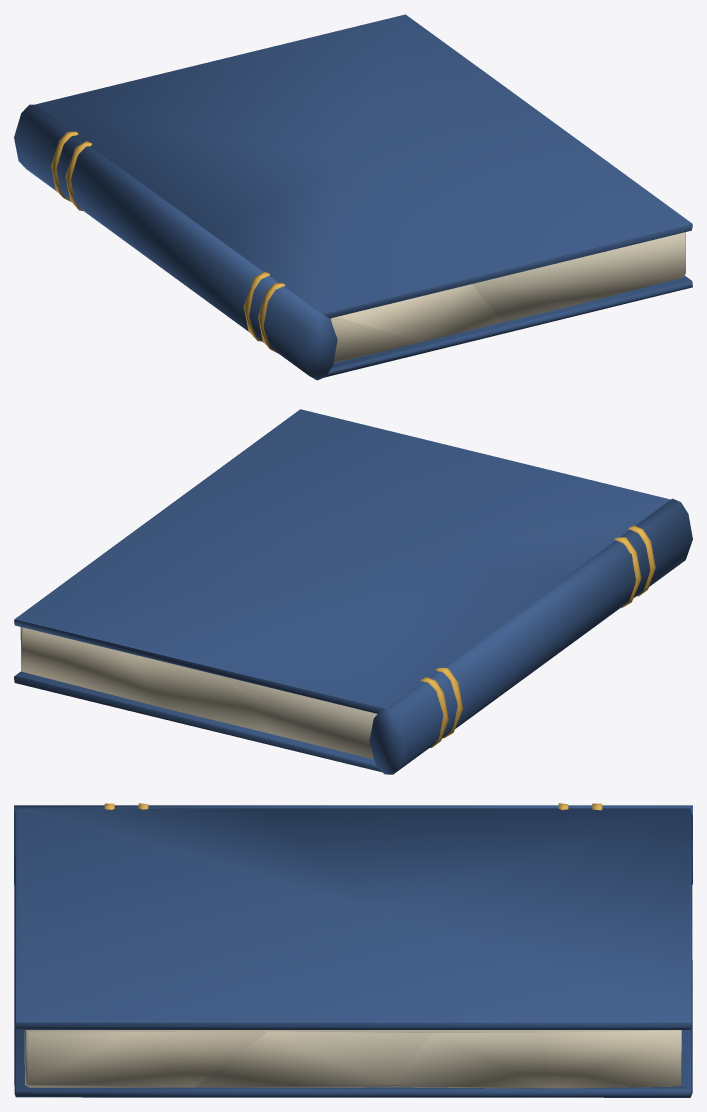
The model's file is frost_book_blue_lod2.glb.
3 renders of one model, top to bottom at view 1: azimuth 30°, elevation 25°; view 2: azimuth 150°, elevation 25°; view 3: azimuth 270°, elevation 25°, orthographic. The views are drawn at different scales.
Visible parts, largest first — view 1: frost_book_blue.001; view 2: frost_book_blue.001; view 3: frost_book_blue.001.
Boxes of the visible parts, left/top/right/bottom form: frost_book_blue.001: left=14, top=14, right=692, bottom=380; frost_book_blue.001: left=14, top=409, right=692, bottom=774; frost_book_blue.001: left=14, top=803, right=692, bottom=1097.
Bounding box in the file's own units: 18.99 × 3.13 × 24.05.
